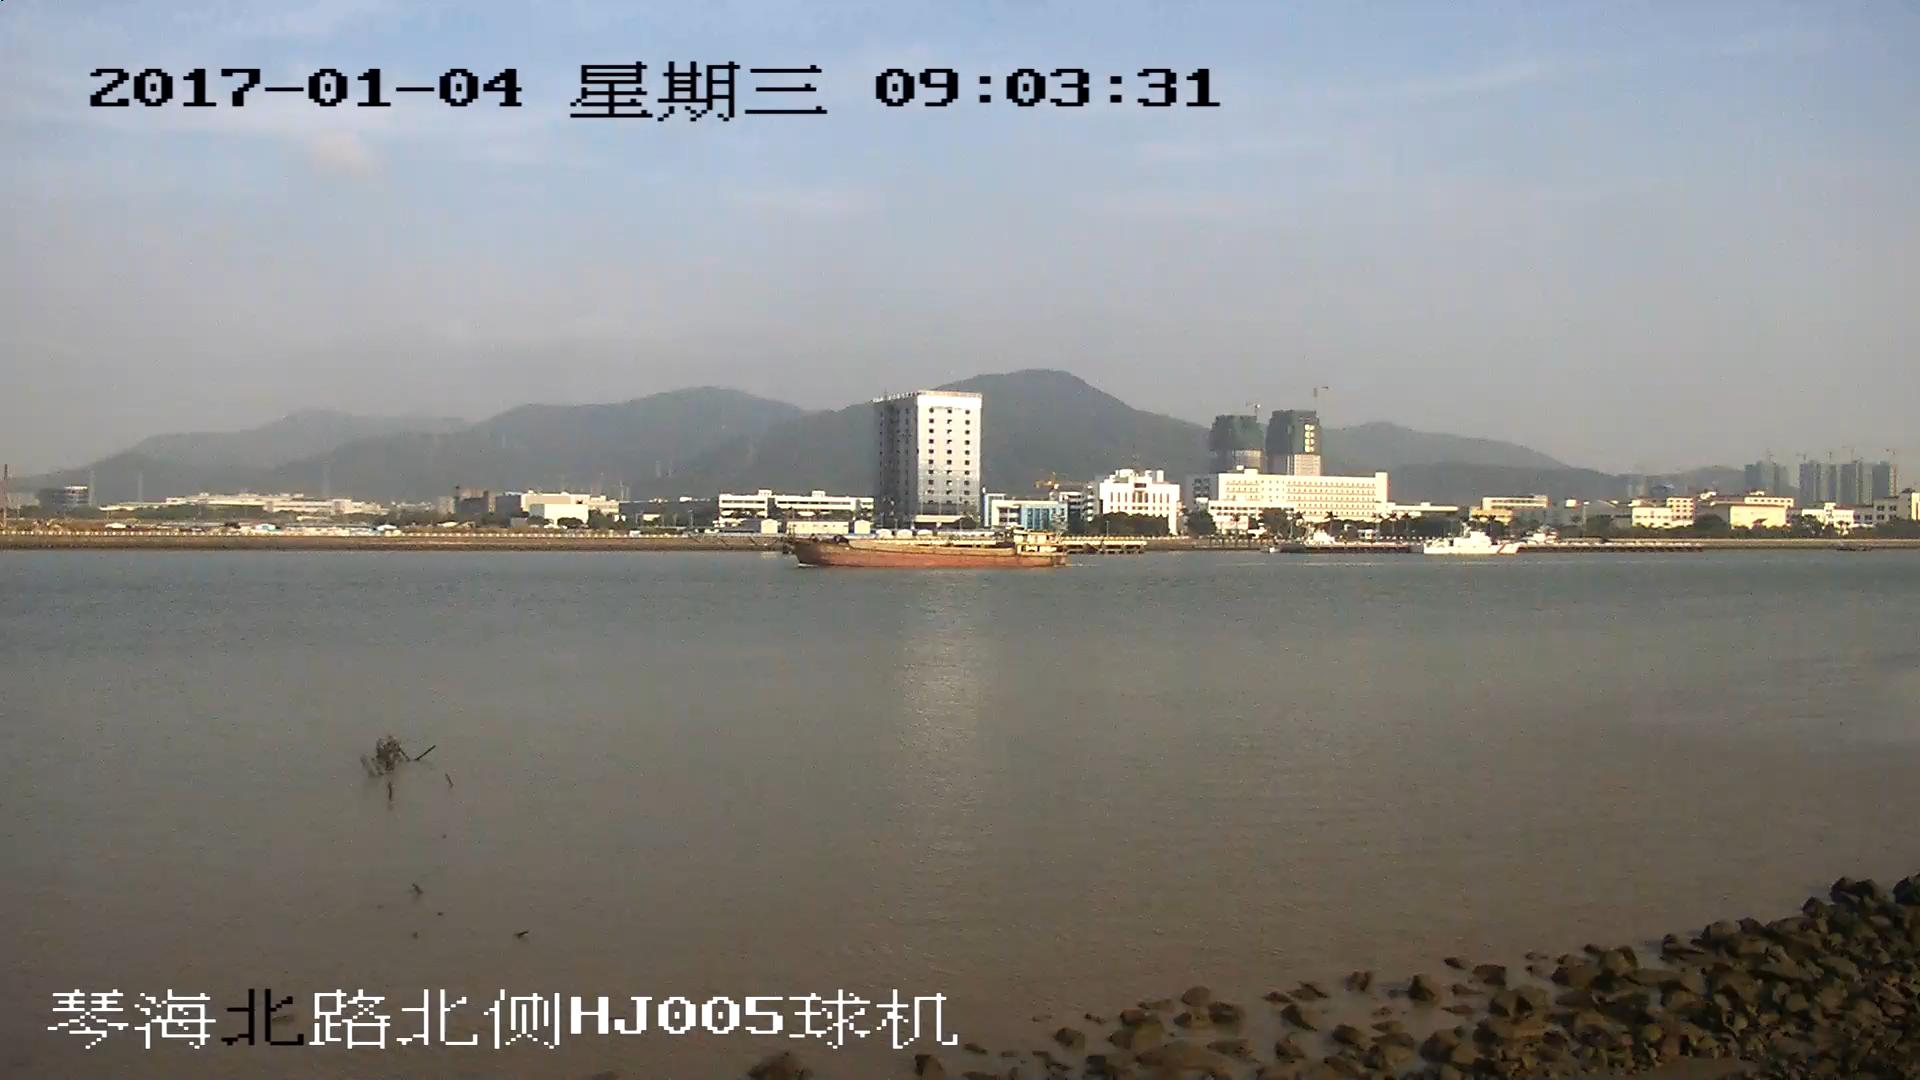bulk cargo carrier: (792, 525, 1066, 568)
